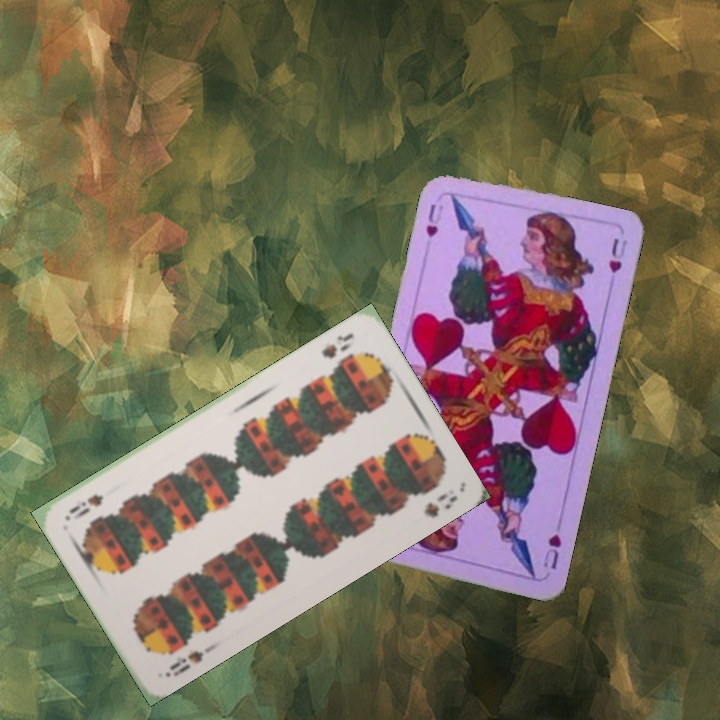HU: (539, 530, 564, 572), (422, 199, 446, 240)
S8: (317, 329, 356, 361), (165, 646, 206, 673)
